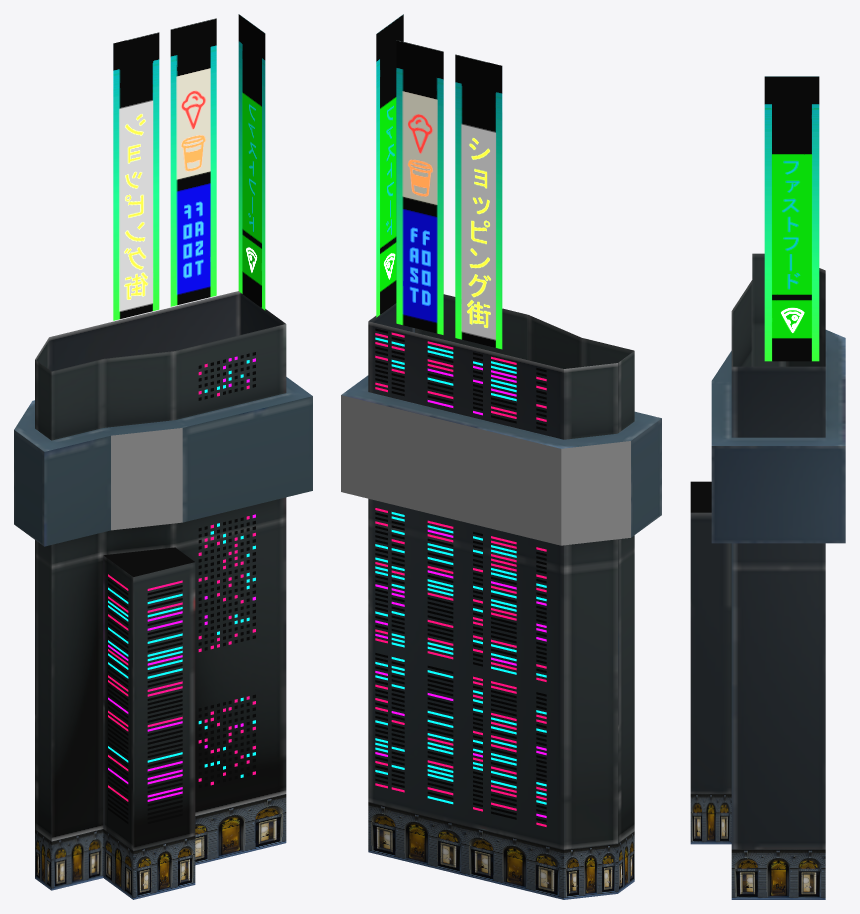
File: BLD1310015.fbx
3 renders of one model, left to right at view 1: azimuth 30°, elevation 25°; view 2: azimuth 150°, elevation 25°; view 3: azimuth 270°, elevation 25°, orthographic. The views are drawn at different scales.
Parts seen in each view (by area): view 1: smBLD1310015; view 2: smBLD1310015; view 3: smBLD1310015.
Part boxes in pixels (<box>): smBLD1310015: <box>14,14,312,899</box>; smBLD1310015: <box>341,14,661,899</box>; smBLD1310015: <box>690,76,845,899</box>.
Size of the model in its own units: 1625 by 4800 by 824.
Materials: 4 (2 with a texture image).
